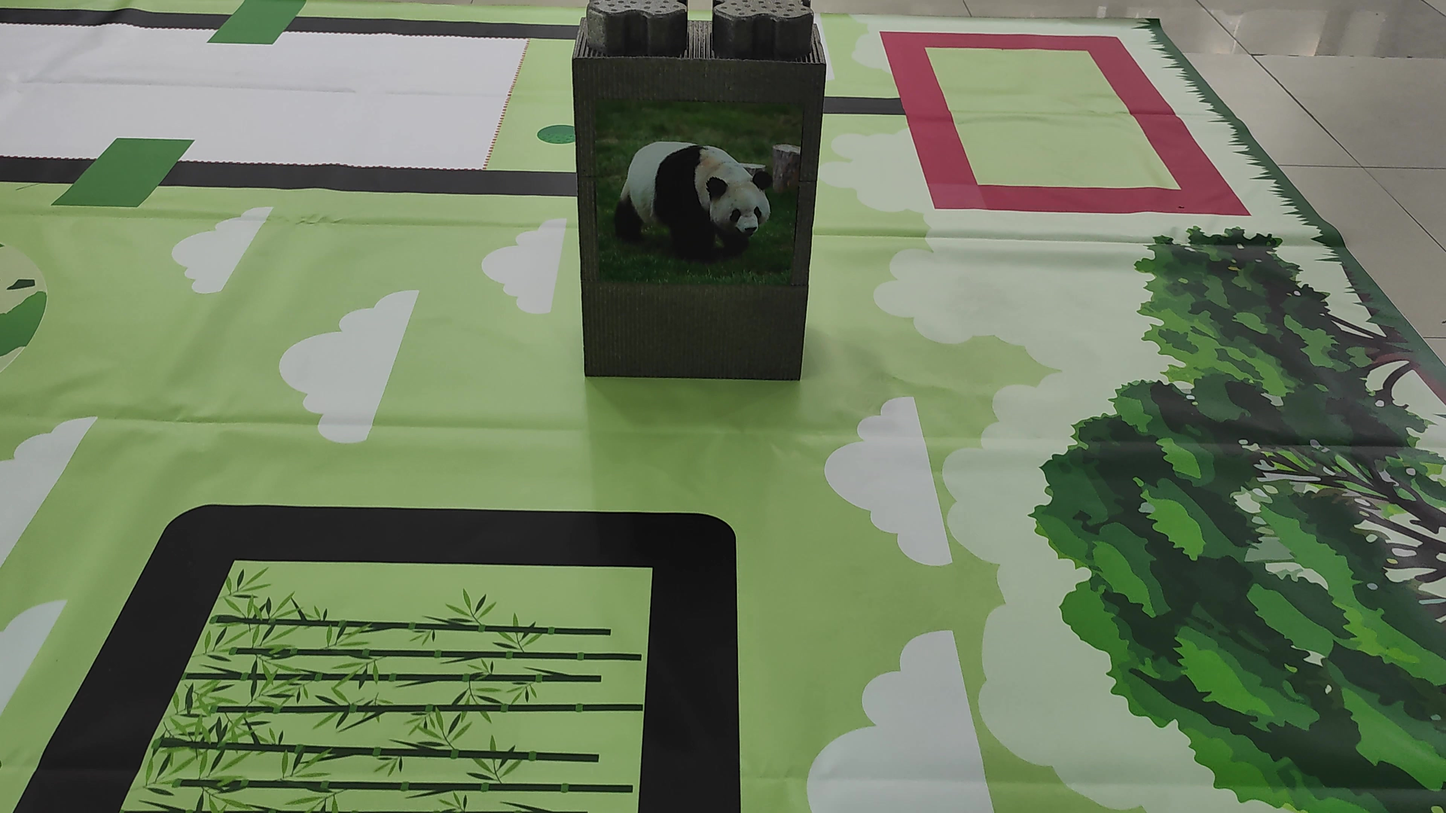panda: (600, 104, 793, 288)
